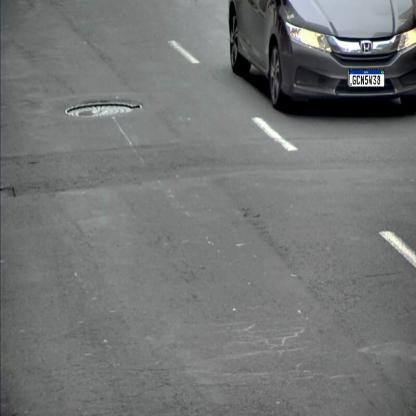PlacaM: (349, 70, 385, 88)
